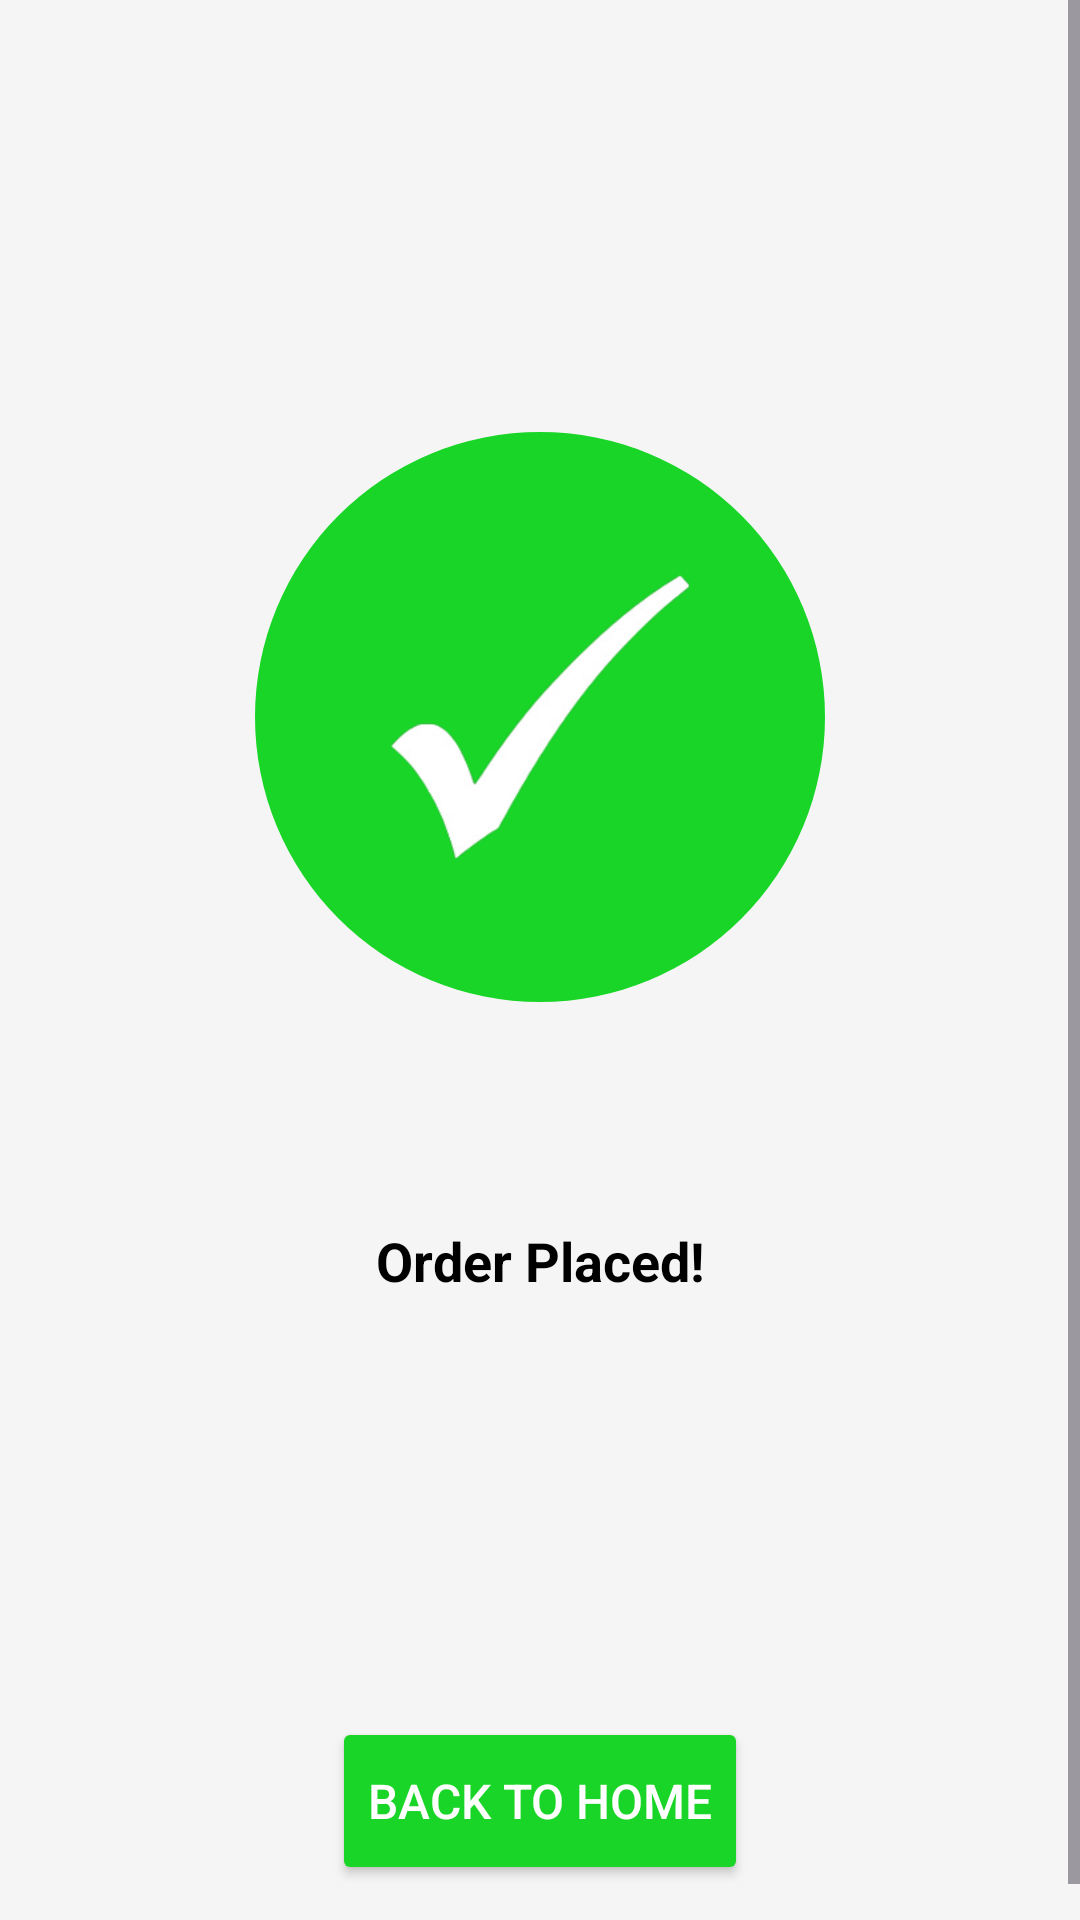

Icon click points for this 1080*1920 phone screenshot, format point (x, y):
Success: point (540, 717)
